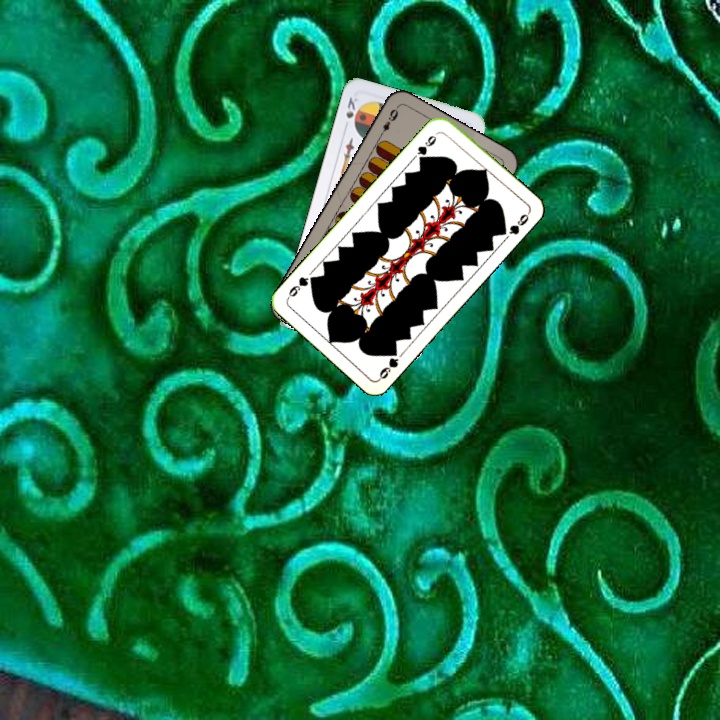E9: (375, 103, 401, 140)
G9: (375, 345, 402, 383), (413, 131, 439, 164)
SK: (342, 93, 361, 128)
